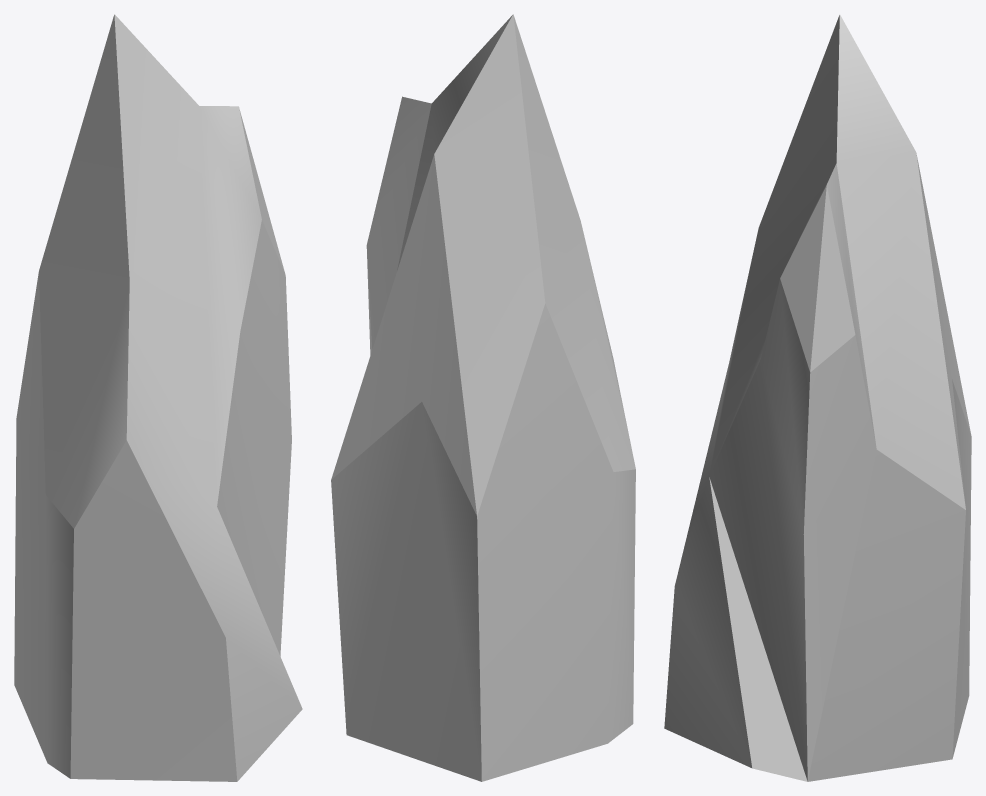
Rendered from RockPiece_3.fbx.
The picture shows the model from 3 angles, left to right: view 1: azimuth 30°, elevation 25°; view 2: azimuth 150°, elevation 25°; view 3: azimuth 270°, elevation 25°; orthographic projection.
Visible parts, largest first — view 1: pSolid5; view 2: pSolid5; view 3: pSolid5.
Boxes of the visible parts, x1,y1,x2,y2 form: pSolid5: [14, 14, 302, 781]; pSolid5: [331, 14, 635, 781]; pSolid5: [664, 14, 971, 781].
Bounding box in the file's own units: 0.0202 × 0.057 × 0.0225.
